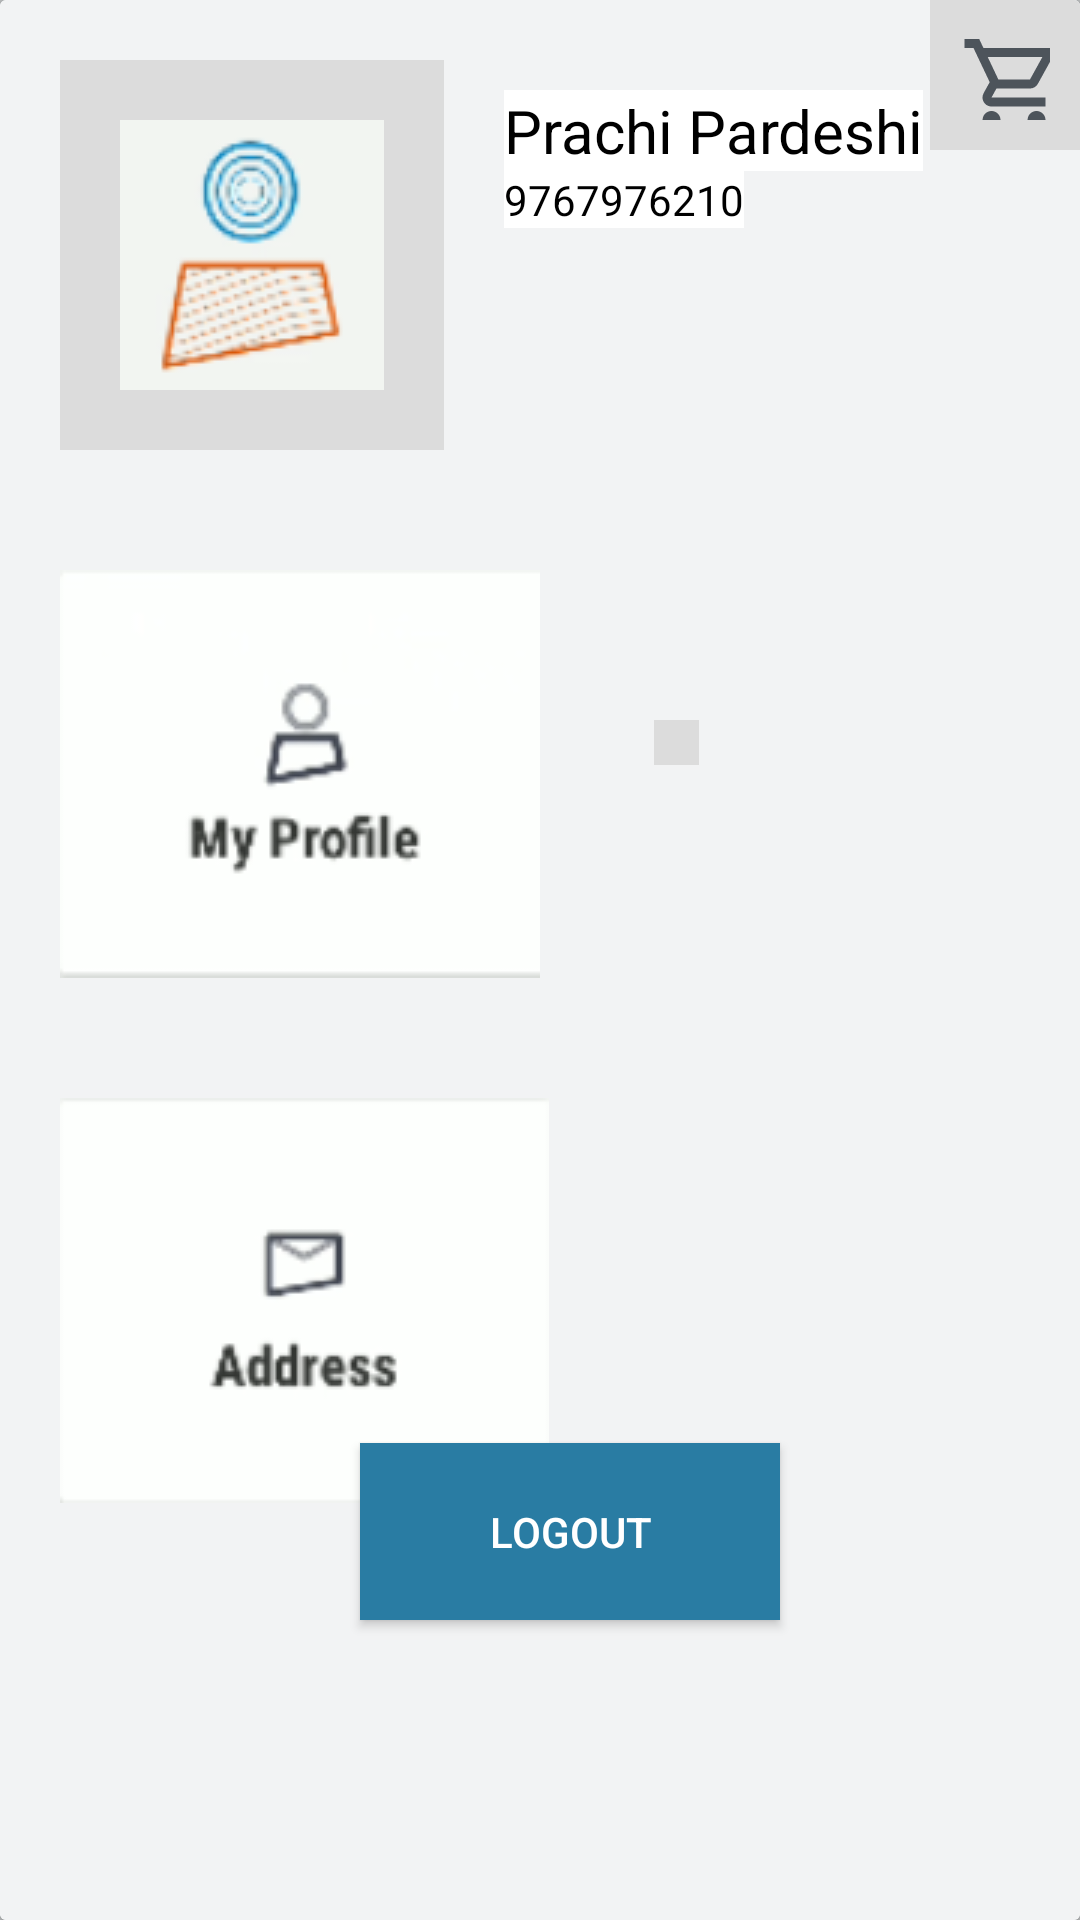

Named icons in this screenshot (1080 x 1920) and their centers, (x,y):
shopping cart: (1005,75)
